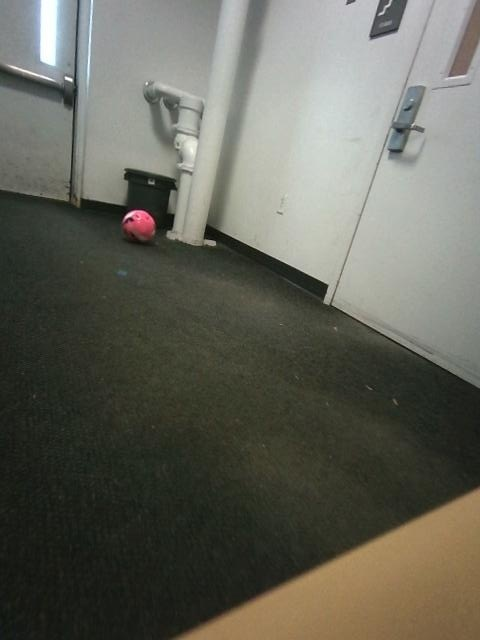ball: (122, 209, 155, 242)
